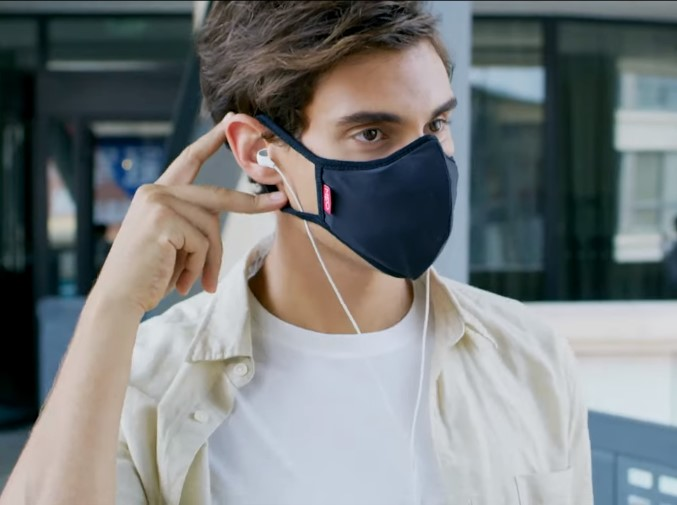face_with_mask: (214, 2, 467, 281)
